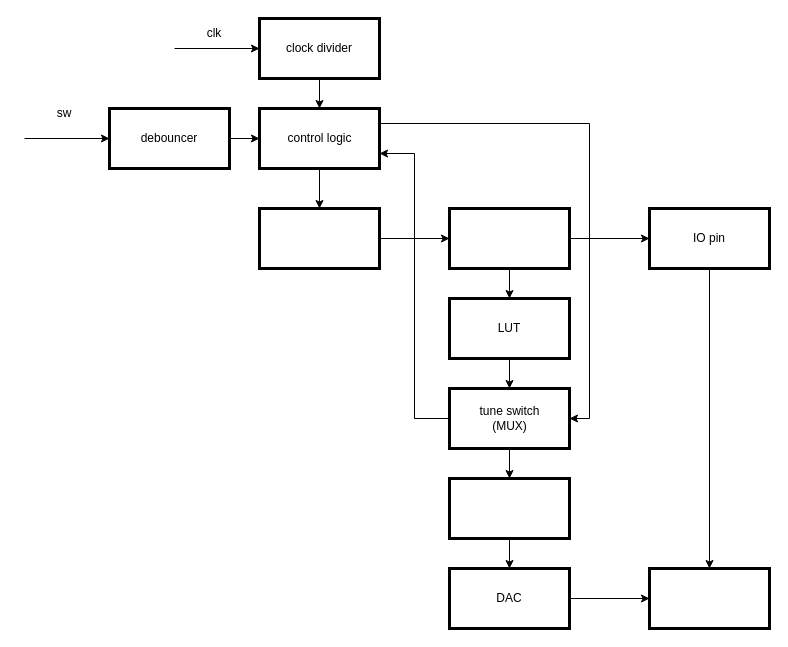
Some shapes in this 788 by 647 pixel diagram are drawn without their labels. The centre of each missing label's shape, as x and y in pixels:
"comparator" belongs at (x=509, y=238).
"digital amp" belongs at (x=509, y=508).
"integrator" belongs at (x=319, y=238).
"osciloscope" belongs at (x=709, y=598).
